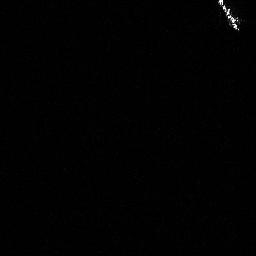ship: (215, 1, 242, 32)
